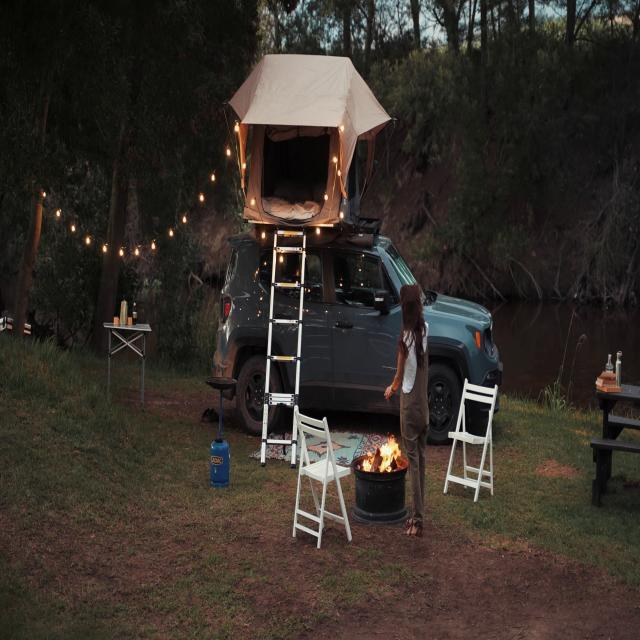Fire: (373, 427, 401, 475)
